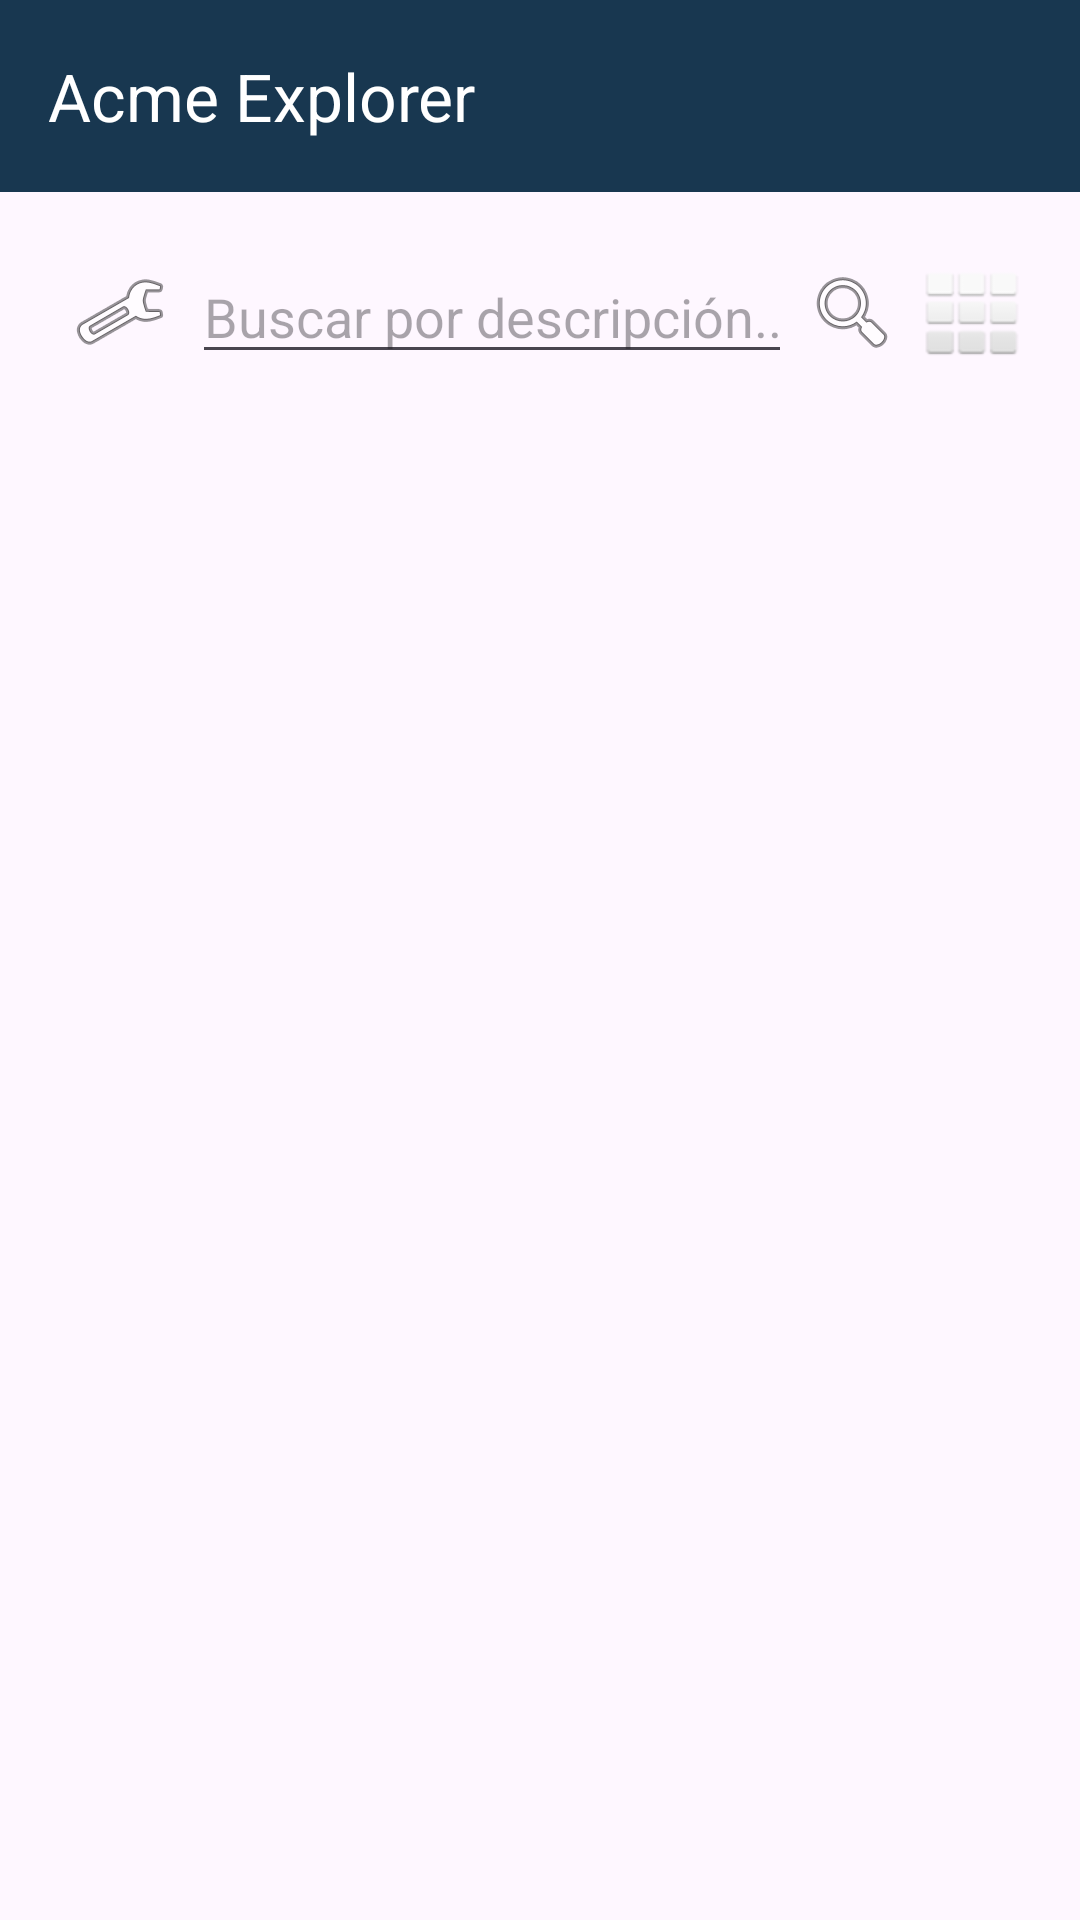

Icons on this 1080 x 1920 Android screen, each with the point to tap as (x=x, y=y):
Buscar texto: (x=852, y=312)
